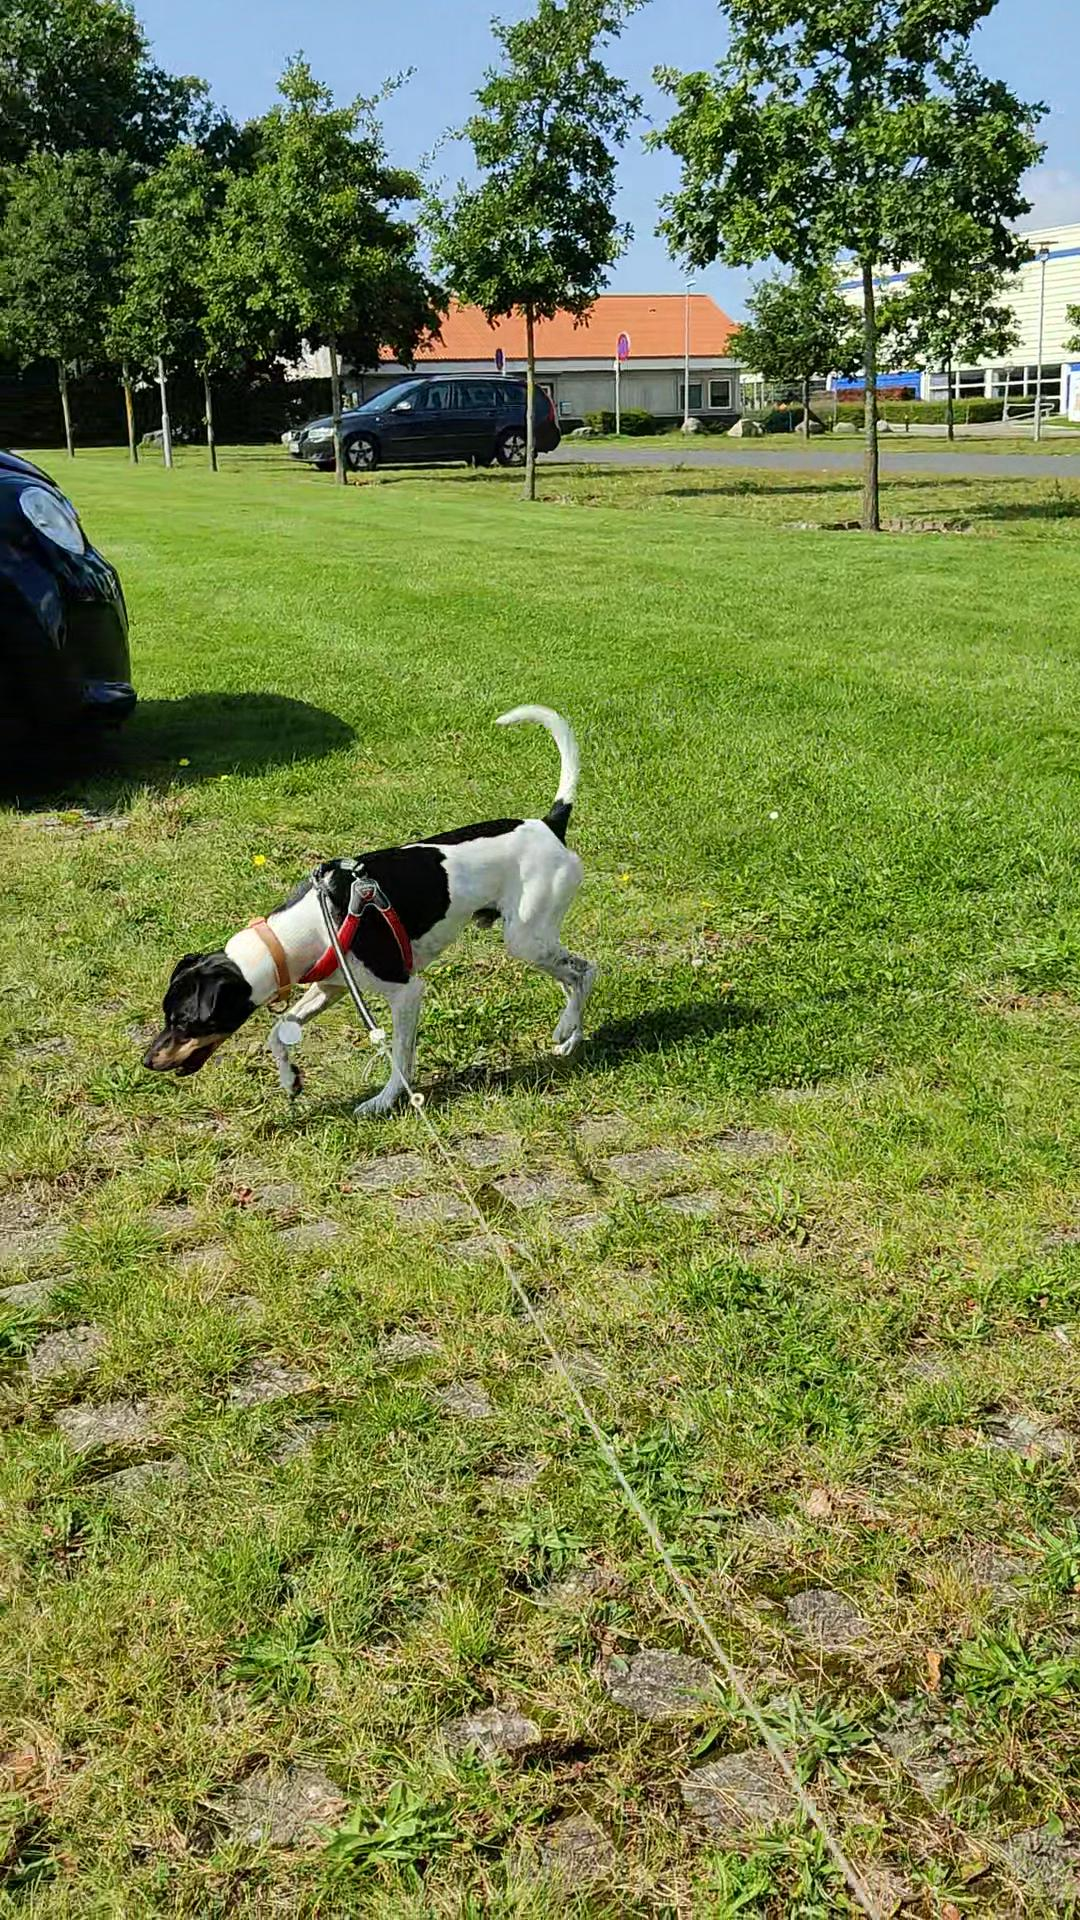Dog: (132, 698, 605, 1122)
